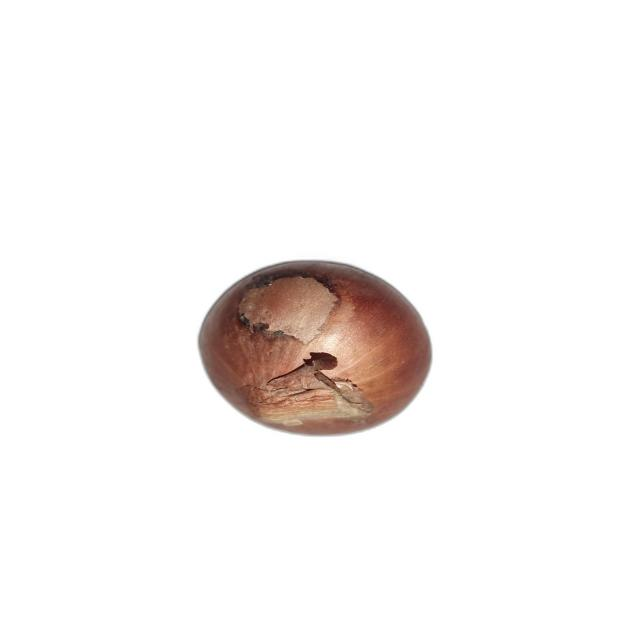onion: (196, 259, 434, 437)
